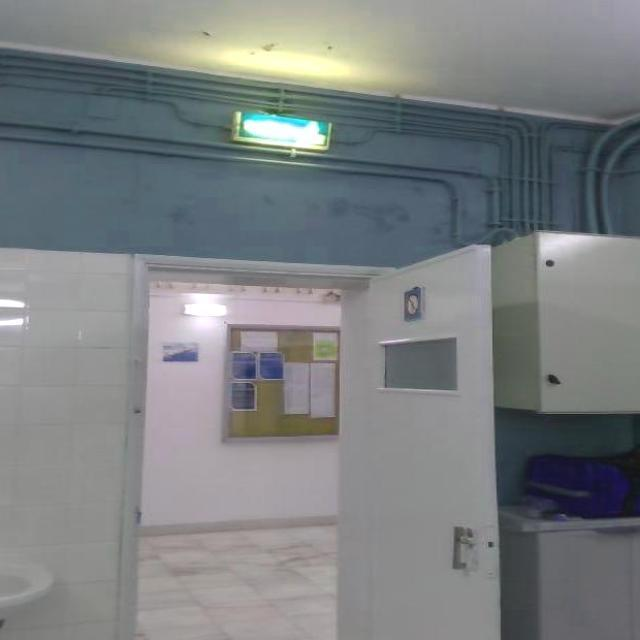door: (336, 242, 502, 638)
